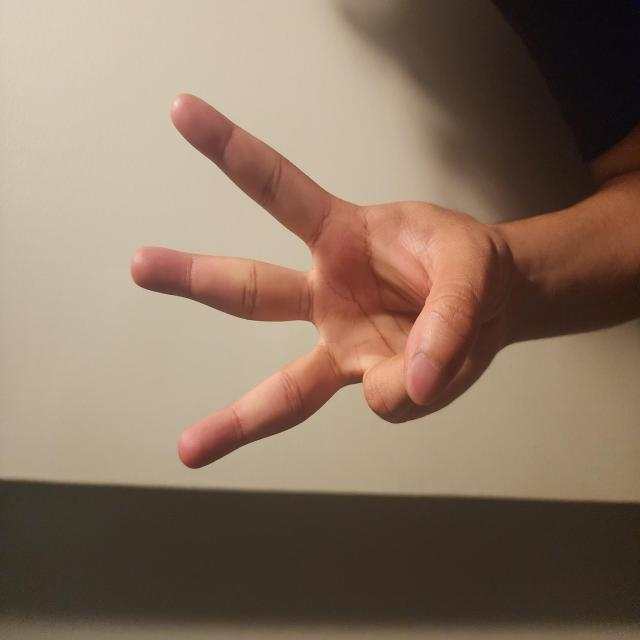W: (119, 173, 413, 640)
